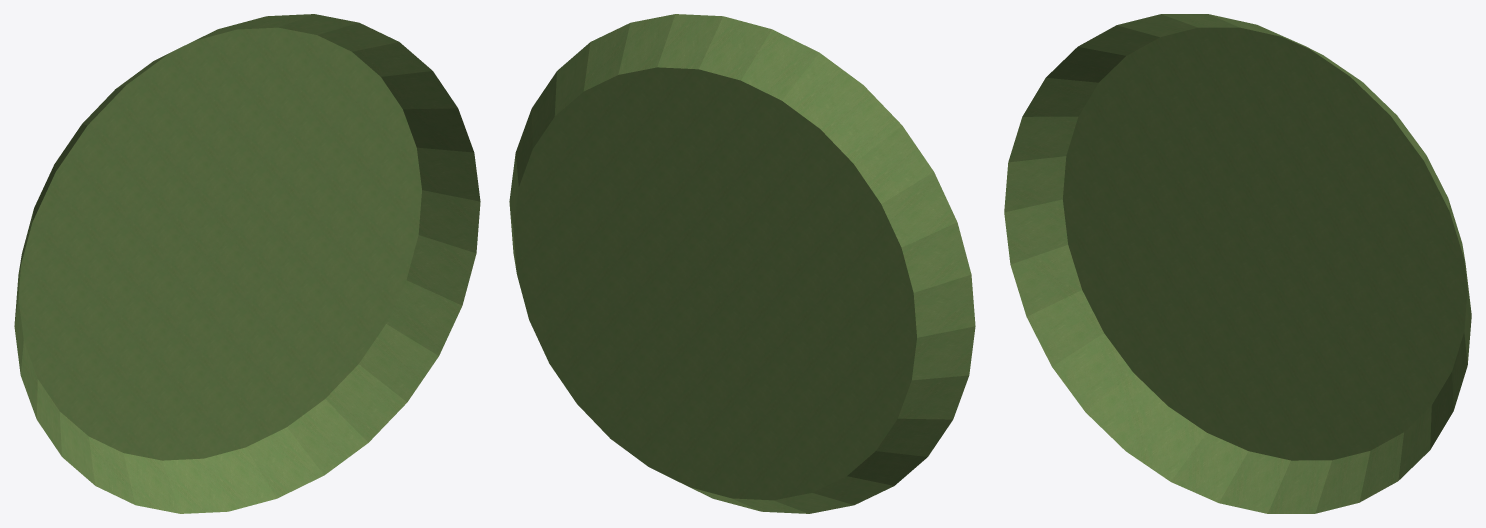
Rendered from complex_land_for_dark_grass.obj.
3 renders of one model, left to right at view 1: azimuth 30°, elevation 25°; view 2: azimuth 150°, elevation 25°; view 3: azimuth 330°, elevation 25°, orthographic.
Parts seen in each view (by area): view 1: grass; view 2: grass; view 3: grass.
Boxes of the visible parts, left/top/right/bottom form: grass: left=14, top=14, right=480, bottom=513; grass: left=509, top=14, right=975, bottom=513; grass: left=1004, top=14, right=1471, bottom=513.
Bounding box in the file's own units: 200 × 199 × 20.2.
1 material, 1 textured.
